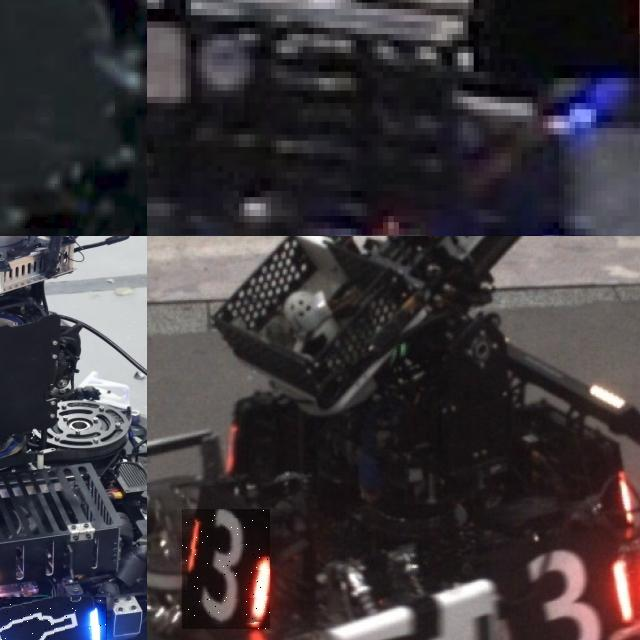Bs: (0, 596, 108, 640)
R3: (182, 509, 270, 629)
